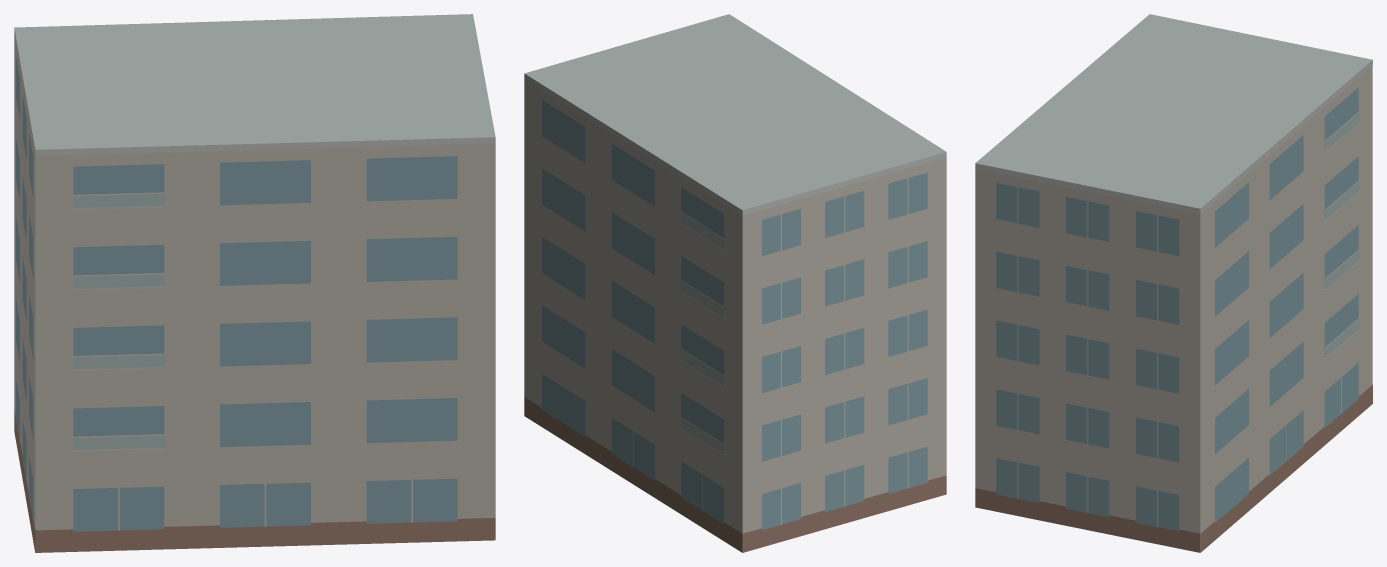
File: survey-upis-32884383.glb
The picture shows the model from 3 angles, left to right: view 1: azimuth 30°, elevation 25°; view 2: azimuth 150°, elevation 25°; view 3: azimuth 270°, elevation 25°; orthographic projection. The views are drawn at different scales.
Parts seen in each view (by area): view 1: survey-upis-32884383.tmp; view 2: survey-upis-32884383.tmp; view 3: survey-upis-32884383.tmp.
Boxes of the visible parts, <box> form: survey-upis-32884383.tmp: <box>14,14,495,552</box>; survey-upis-32884383.tmp: <box>524,14,946,552</box>; survey-upis-32884383.tmp: <box>975,14,1372,552</box>.
Bounding box in the file's own units: 18.7 × 15.4 × 16.13.
